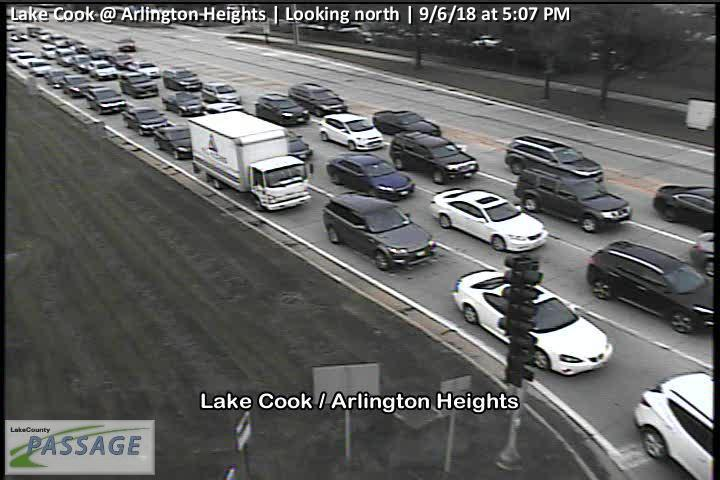SUV: (588, 241, 720, 334), (635, 370, 720, 476), (323, 191, 437, 270), (515, 164, 632, 231), (505, 136, 604, 188), (390, 131, 480, 185), (320, 113, 384, 151), (288, 82, 347, 116), (255, 94, 309, 125), (201, 82, 240, 103), (6, 46, 24, 62), (41, 44, 56, 59)
Sedan: (454, 269, 614, 376), (431, 188, 549, 252), (326, 153, 414, 201), (654, 186, 720, 230), (373, 110, 441, 141), (152, 125, 195, 160), (121, 106, 167, 136), (85, 85, 126, 113), (120, 72, 159, 98), (162, 91, 202, 115), (164, 68, 202, 92), (88, 58, 119, 80), (64, 74, 92, 97), (127, 61, 160, 78), (28, 58, 52, 76), (46, 70, 69, 88), (55, 49, 76, 68), (17, 52, 35, 68), (119, 38, 136, 52)
Truck: (188, 110, 312, 211)
